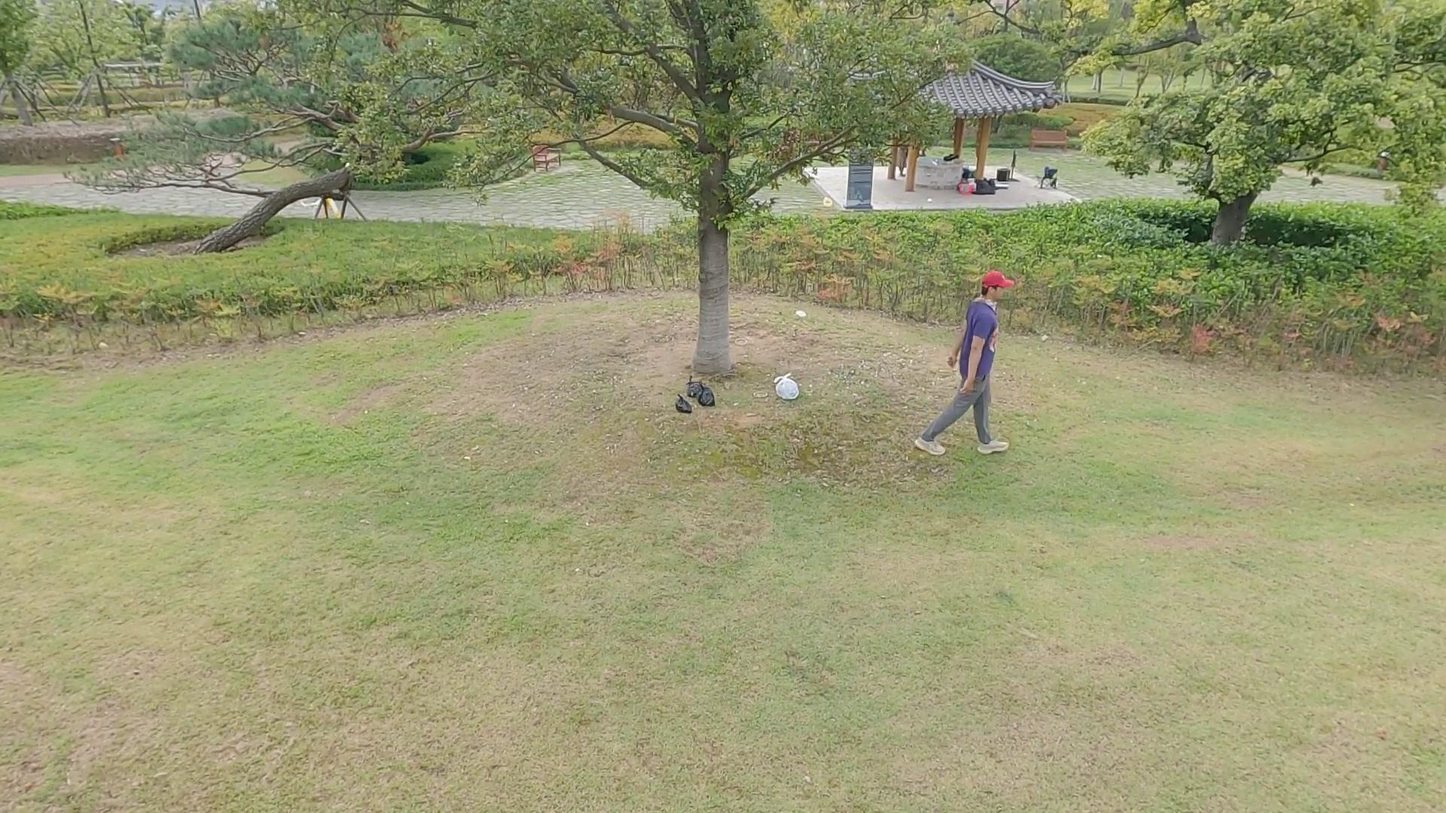person: (913, 270, 1015, 459)
trash: (773, 372, 801, 402), (697, 385, 717, 407), (674, 393, 693, 415), (685, 374, 703, 397), (824, 196, 833, 207), (796, 310, 807, 318), (927, 197, 933, 203)
